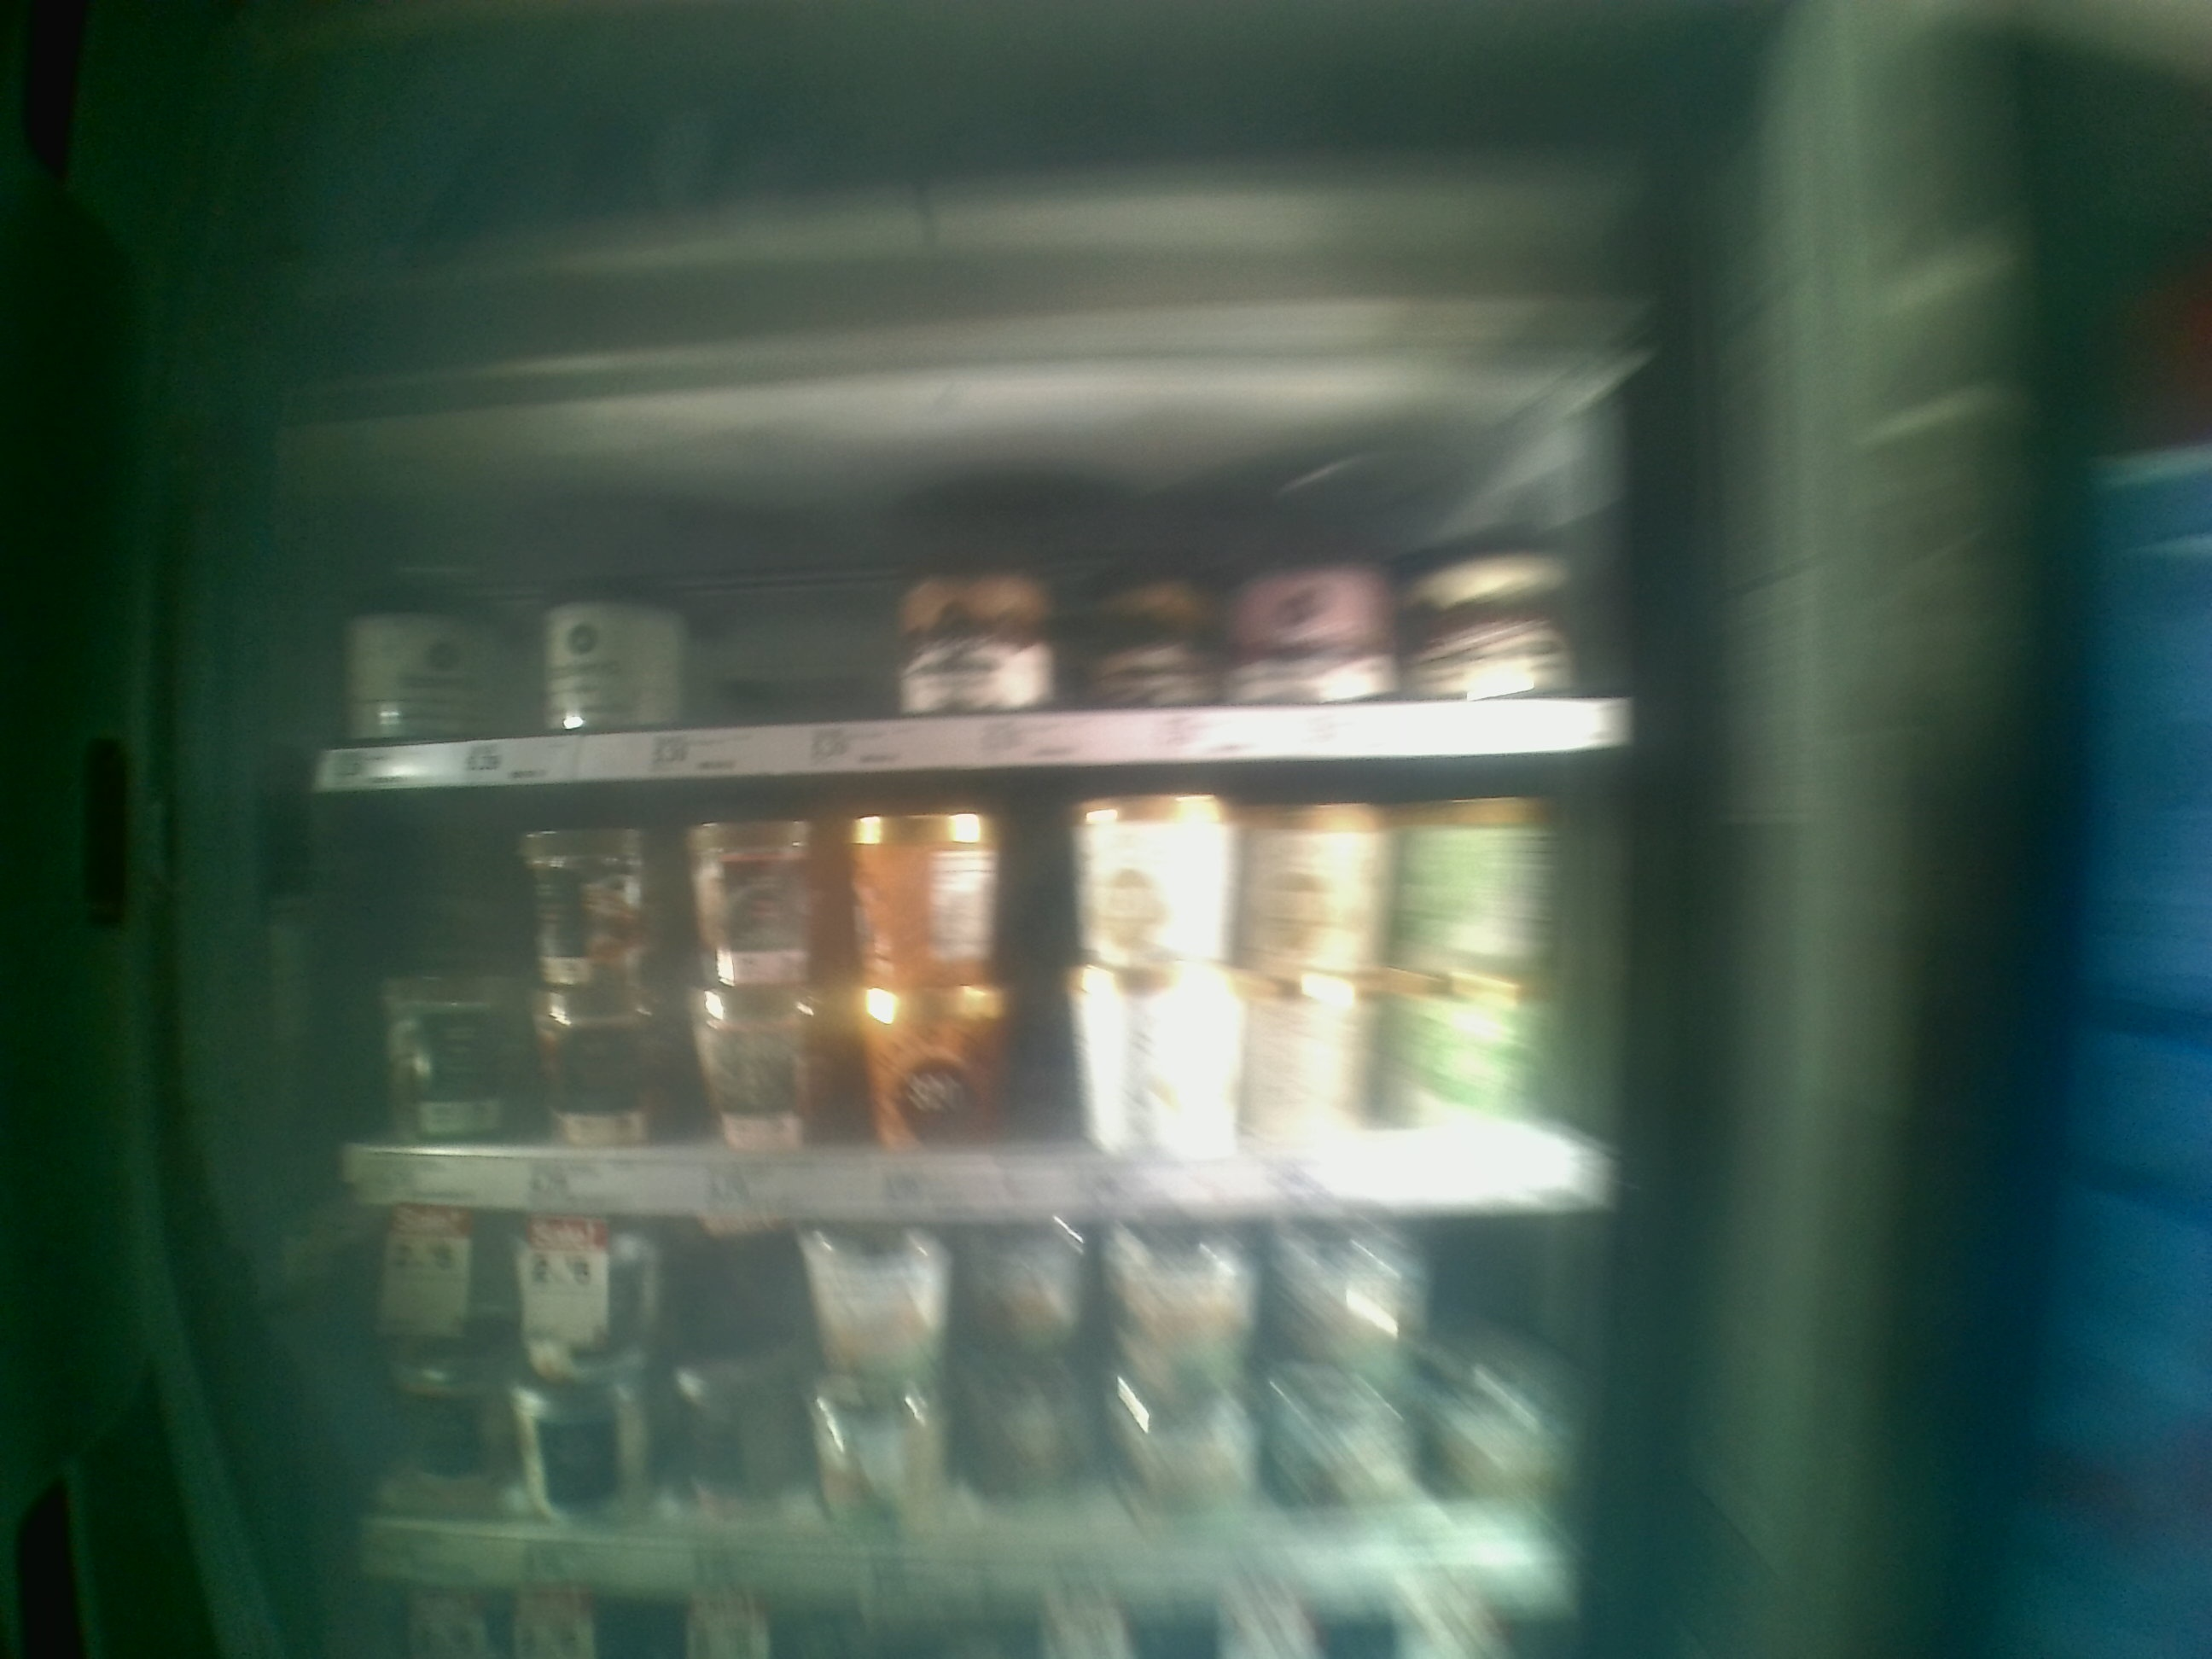shelf: (310, 744, 1644, 1218), (310, 443, 1639, 788)
